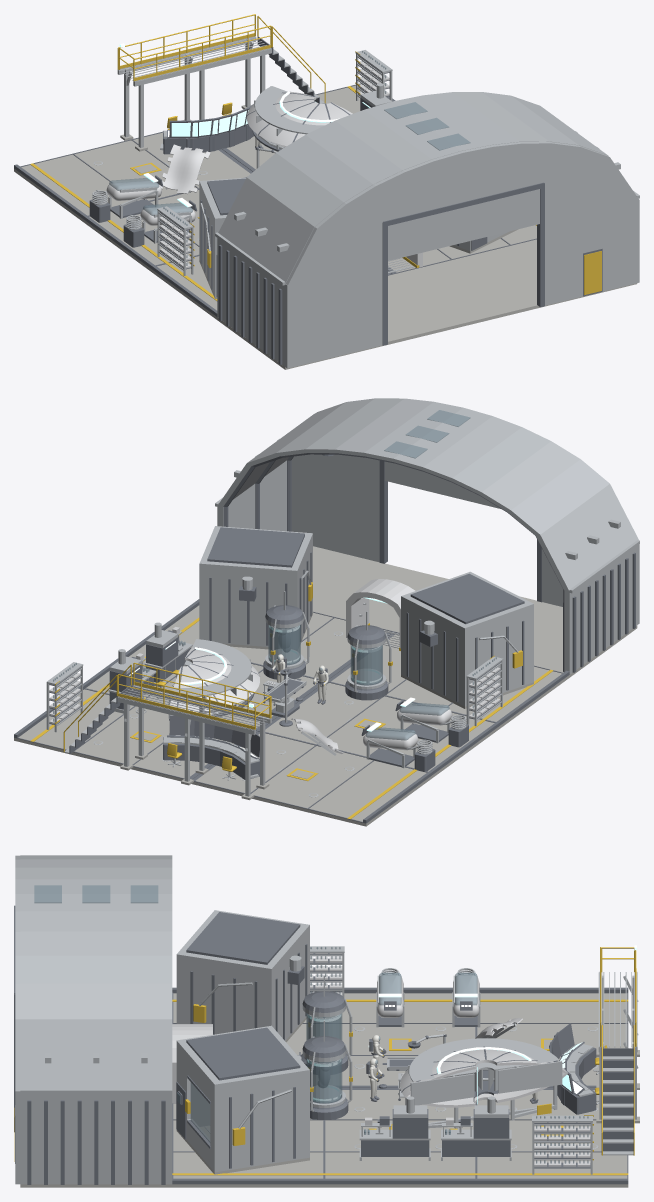
The model's file is ufo-crash-site-and-recovery-facility-containment-labor-407b3ae5__17376.glb.
3 renders of one model, top to bottom at view 1: azimuth 30°, elevation 25°; view 2: azimuth 150°, elevation 25°; view 3: azimuth 270°, elevation 25°, orthographic. The views are drawn at different scales.
Parts seen in each view (by area): view 1: 003-hangar-bay-end-wall/0, 003-hangar-bay-end-wall/1, 000-bay-floor-slab/0, 003-hangar-bay-end-wall/2, 017-observation-gantry/0, 017-observation-gantry/2, 002-bay-floor-slab/0, 018-cutaway-hull-section/0, 001-bay-floor-slab/0, 009-control-console-bank/0, 004-containment-cell/1, 019-torn-panel-section/0 (+16 smaller); view 2: 003-hangar-bay-end-wall/0, 000-bay-floor-slab/0, 004-containment-cell/1, 005-containment-cell/1, 001-bay-floor-slab/0, 003-hangar-bay-end-wall/1, 002-bay-floor-slab/0, 003-hangar-bay-end-wall/2, 004-containment-cell/3, 017-observation-gantry/0, 005-containment-cell/3, 017-observation-gantry/2 (+30 smaller); view 3: 003-hangar-bay-end-wall/0, 001-bay-floor-slab/0, 000-bay-floor-slab/0, 005-containment-cell/1, 004-containment-cell/1, 018-cutaway-hull-section/2, 004-containment-cell/3, 005-containment-cell/3, 002-bay-floor-slab/0, 003-hangar-bay-end-wall/2, 017-observation-gantry/0, 018-cutaway-hull-section/0 (+36 smaller).
Part boxes in pixels (x1,y1,x2,y2): 003-hangar-bay-end-wall/0: (215, 92, 639, 368); 003-hangar-bay-end-wall/1: (217, 239, 637, 369); 000-bay-floor-slab/0: (14, 85, 361, 220); 003-hangar-bay-end-wall/2: (218, 182, 602, 364); 017-observation-gantry/0: (117, 36, 325, 147); 017-observation-gantry/2: (117, 14, 325, 103); 002-bay-floor-slab/0: (149, 225, 536, 319); 018-cutaway-hull-section/0: (246, 91, 352, 147); 001-bay-floor-slab/0: (82, 190, 199, 270); 009-control-console-bank/0: (163, 104, 253, 154); 004-containment-cell/1: (199, 177, 246, 296); 019-torn-panel-section/0: (159, 144, 210, 194); 003-hangar-bay-end-wall/0: (215, 398, 639, 674); 000-bay-floor-slab/0: (14, 689, 433, 826); 004-containment-cell/1: (401, 571, 533, 706); 005-containment-cell/1: (199, 526, 312, 648); 001-bay-floor-slab/0: (86, 644, 501, 776); 003-hangar-bay-end-wall/1: (313, 546, 637, 677); 002-bay-floor-slab/0: (165, 605, 569, 726); 003-hangar-bay-end-wall/2: (223, 453, 635, 672); 004-containment-cell/3: (406, 573, 524, 701); 017-observation-gantry/0: (64, 684, 271, 796); 005-containment-cell/3: (207, 527, 311, 645); 017-observation-gantry/2: (63, 662, 271, 752); 003-hangar-bay-end-wall/0: (15, 855, 172, 1184); 001-bay-floor-slab/0: (324, 993, 476, 1187); 000-bay-floor-slab/0: (476, 993, 628, 1187); 005-containment-cell/1: (176, 1025, 309, 1172); 004-containment-cell/1: (176, 910, 309, 1040); 018-cutaway-hull-section/2: (405, 1038, 562, 1128); 004-containment-cell/3: (186, 912, 307, 1040); 005-containment-cell/3: (186, 1027, 300, 1168); 002-bay-floor-slab/0: (172, 993, 324, 1187); 003-hangar-bay-end-wall/2: (14, 905, 165, 1184); 017-observation-gantry/0: (598, 971, 638, 1155); 018-cutaway-hull-section/0: (400, 1049, 567, 1107).
Bounding box in the file's own units: 18.26 × 8.6 × 24.71.
